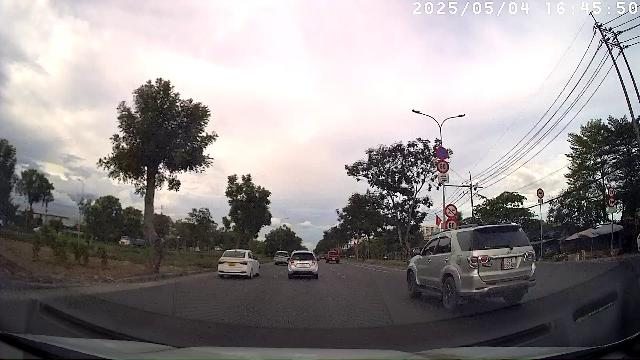127-toc-do-toi-da-50: (608, 186, 615, 197)
127-toc-do-toi-da-60: (445, 219, 458, 230)
127-toc-do-toi-da-80: (436, 160, 449, 173)
130-cam-dung-va-do-xe: (436, 147, 449, 159)
